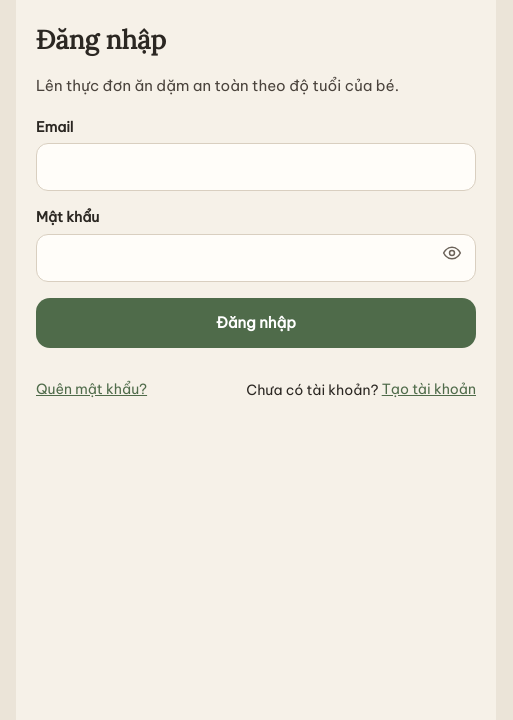
Scenario: login › explains TOO_MANY_ATTEMPTS and keeps what was typed
Type "na@example.vn" into the field labelled "Email" at (256, 167), box [36,143,476,191]
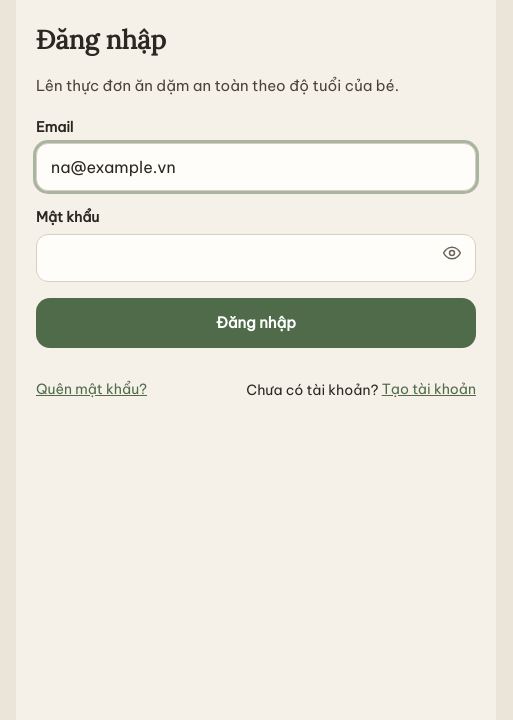
Type "wrong password" into the password field labelled "Mật khẩu" at (256, 258), box [36,234,476,282]
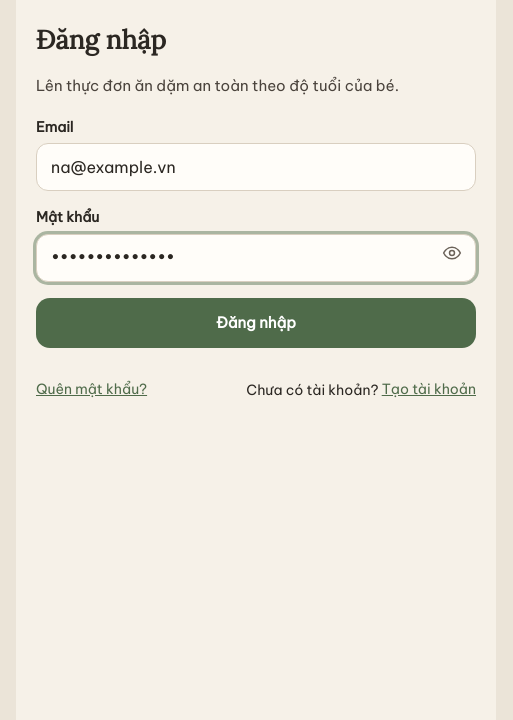
Click the button "Đăng nhập" at (256, 322), box [36,298,476,348]
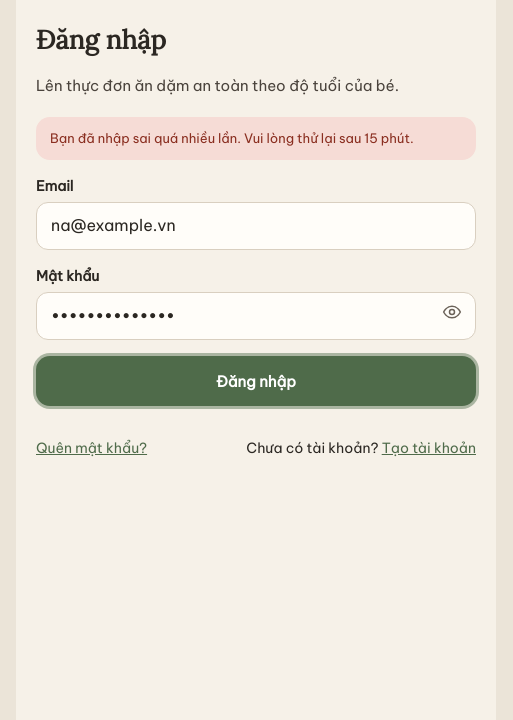
Expected: the message reads "Bạn đã nhập sai quá nhiều lần. Vui lòng thử lại sau 15 phút.", [50,130,414,146]
